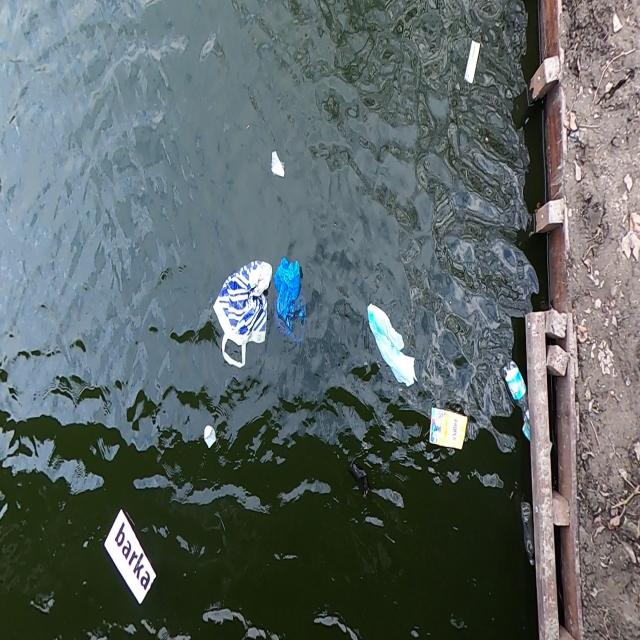Autre plastique: (426, 402, 474, 453)
Bouteille plastique: (501, 357, 531, 422), (517, 500, 536, 569)
Non plastique: (460, 38, 486, 102)
Sac plastique: (208, 249, 272, 378), (361, 286, 422, 394), (274, 251, 310, 351)
